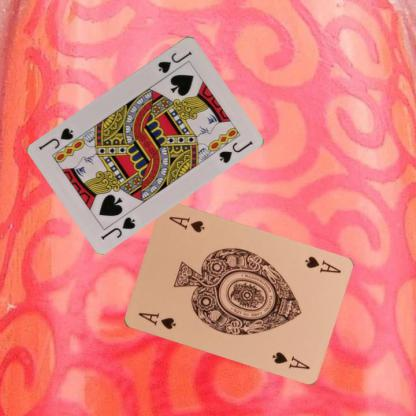As: (135, 310, 177, 331), (302, 254, 342, 274)
Js: (98, 213, 137, 241), (155, 48, 195, 74)
